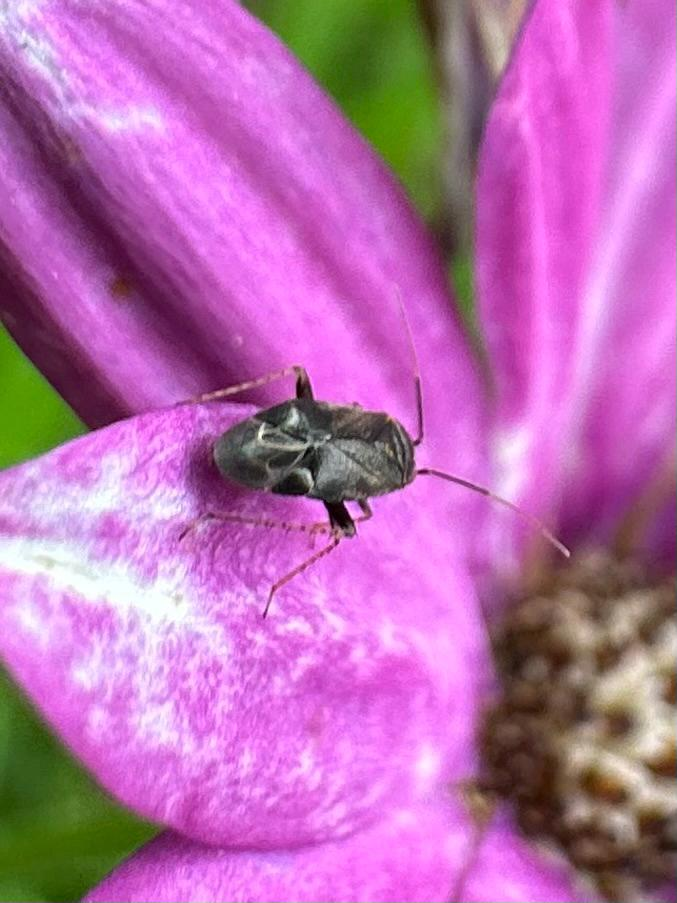plant_bugs: (117, 269, 605, 687)
